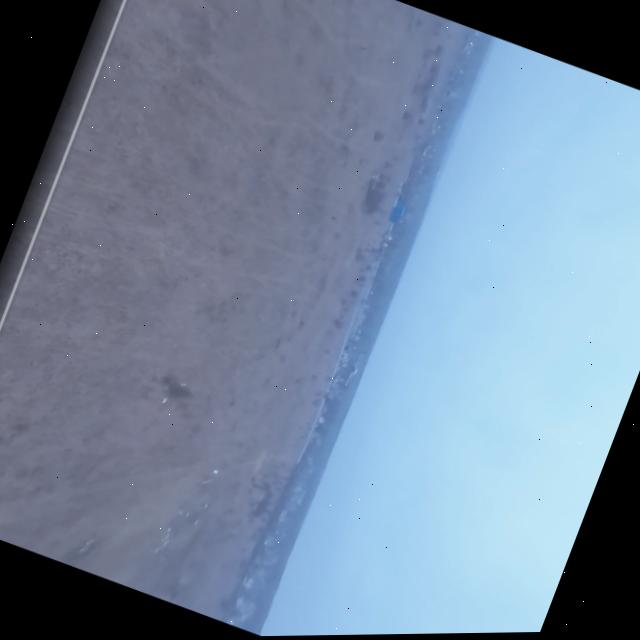planedrone: (340, 345, 372, 391)
